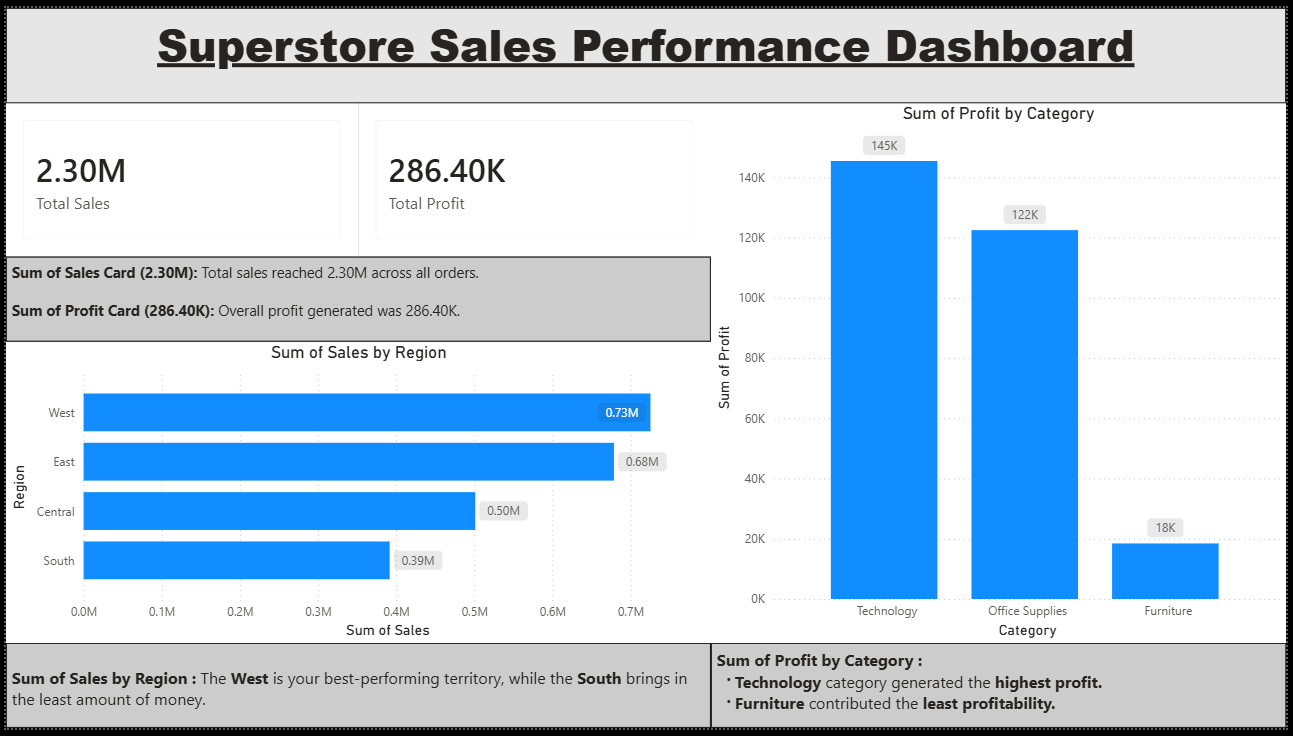

This screenshot's page, from the dashboard's own definition file:
{"tool":"powerbi","page":{"name":"Page 1","canvas":[1280,720],"ordinal":0},"visuals":[{"type":"clusteredBarChart","fields":{"Category":["Sample - Superstore.Region"],"Y":["Sum(Sample - Superstore.Sales)"]},"box":[0,333.5,705.5,301.9],"z":0},{"type":"clusteredColumnChart","fields":{"Category":["Sample - Superstore.Category"],"Y":["Sum(Sample - Superstore.Profit)"]},"box":[705,95,575,540],"z":1000},{"type":"cardVisual","fields":{"Data":["Sum(Sample - Superstore.Sales)"]},"box":[0,95,352.5,153.8],"z":2000},{"type":"cardVisual","fields":{"Data":["Sum(Sample - Superstore.Profit)"]},"box":[352.5,95,352.5,153.8],"z":3000},{"type":"textbox","box":[0,635,705,85],"z":4000},{"type":"textbox","box":[705,635,575,85],"z":5000},{"type":"textbox","box":[0,248.8,705,85],"z":6000},{"type":"textbox","box":[0,0,1280,95],"z":7000}]}

Visuals, with their boxes in screenshot pixels (x1, y1, x2, y2), scaled from the page's 1280x720 canvas onto the 1293x736 screenshot:
clusteredBarChart - Sample - Superstore.Region x Sum(Sample - Superstore.Sales): bbox=[0, 341, 713, 650]
clusteredColumnChart - Sample - Superstore.Category x Sum(Sample - Superstore.Profit): bbox=[712, 97, 1292, 649]
cardVisual - Sum(Sample - Superstore.Sales): bbox=[0, 97, 356, 254]
cardVisual - Sum(Sample - Superstore.Profit): bbox=[356, 97, 712, 254]
textbox: bbox=[0, 649, 712, 735]
textbox: bbox=[712, 649, 1292, 735]
textbox: bbox=[0, 254, 712, 341]
textbox: bbox=[0, 0, 1292, 97]
